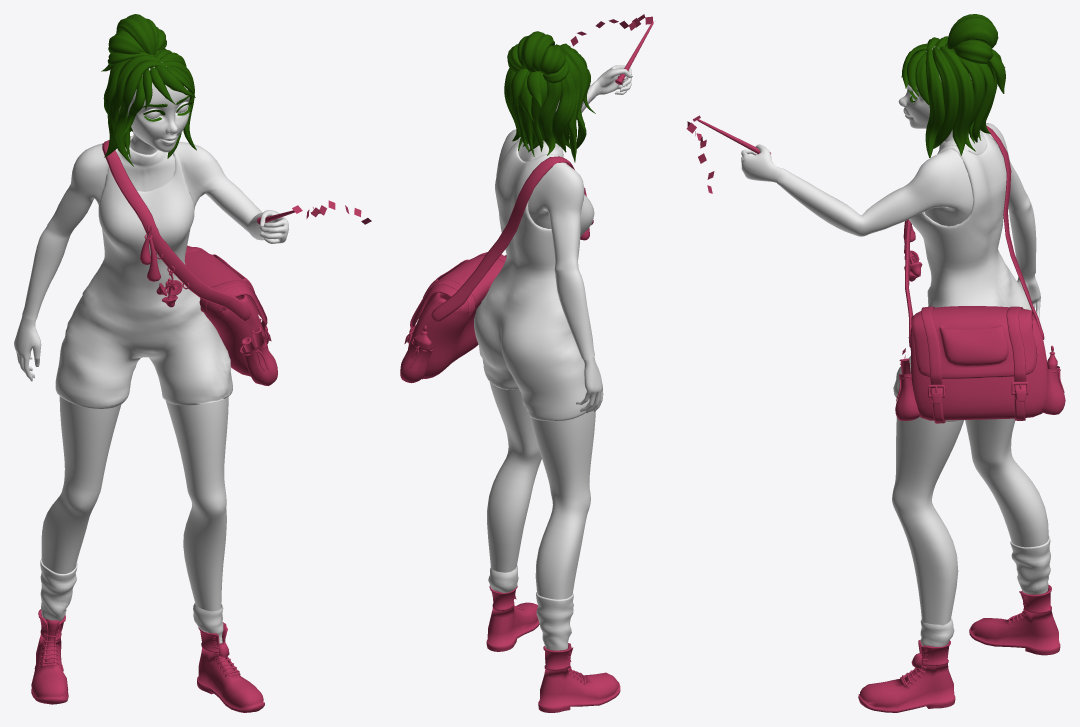
The model's file is CharacterPosed.fbx.
The picture shows the model from 3 angles, left to right: view 1: azimuth 30°, elevation 25°; view 2: azimuth 150°, elevation 25°; view 3: azimuth 270°, elevation 25°; orthographic projection. The views are drawn at different scales.
Parts seen in each view (by area): view 1: Clothes_LP, Body_LP, Accessories_LP, Hair_LP; view 2: Clothes_LP, Body_LP, Accessories_LP, Hair_LP; view 3: Accessories_LP, Clothes_LP, Body_LP, Hair_LP.
Part boxes in pixels (<box>): Clothes_LP: <box>22,135,274,643</box>; Body_LP: <box>14,62,288,611</box>; Accessories_LP: <box>31,140,371,712</box>; Hair_LP: <box>101,14,196,166</box>; Clothes_LP: <box>474,85,595,650</box>; Body_LP: <box>487,65,632,599</box>; Accessories_LP: <box>400,14,653,712</box>; Hair_LP: <box>504,31,595,162</box>; Accessories_LP: <box>686,115,1065,712</box>; Clothes_LP: <box>777,123,1050,646</box>; Body_LP: <box>741,46,1048,625</box>; Hair_LP: <box>901,14,1005,157</box>.
Size of the model in its own units: 47.58 by 147 by 76.42.
